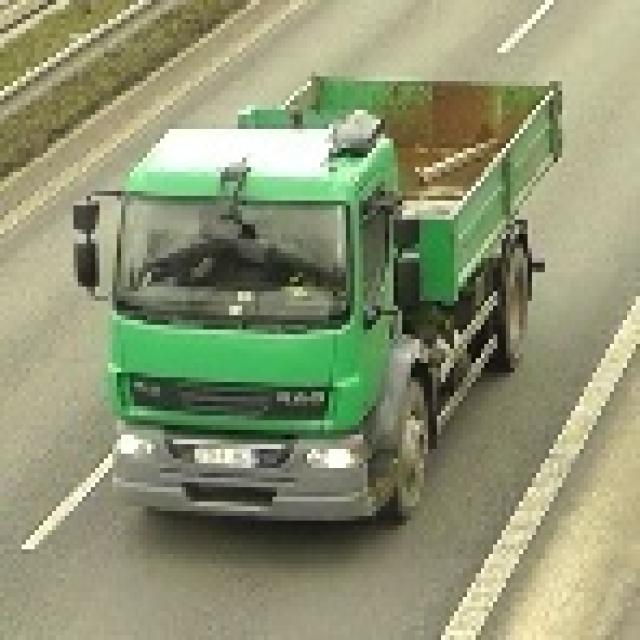truck: (74, 62, 562, 525)
